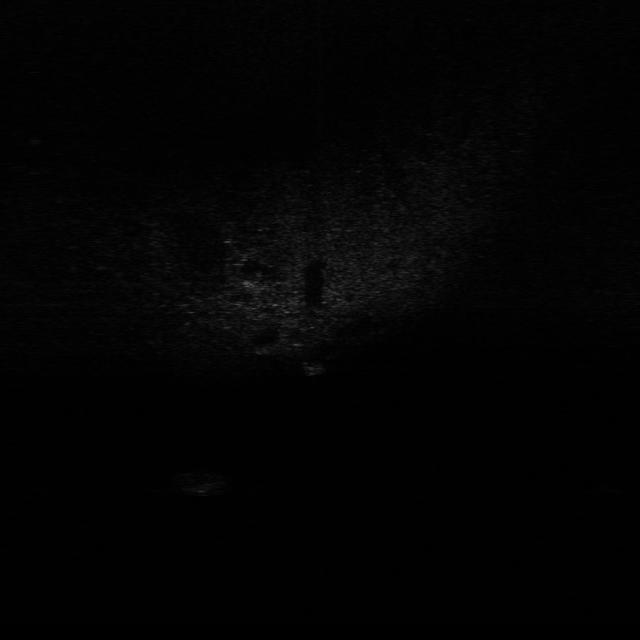circle cage: (173, 468, 228, 496)
cube: (300, 354, 324, 379)
